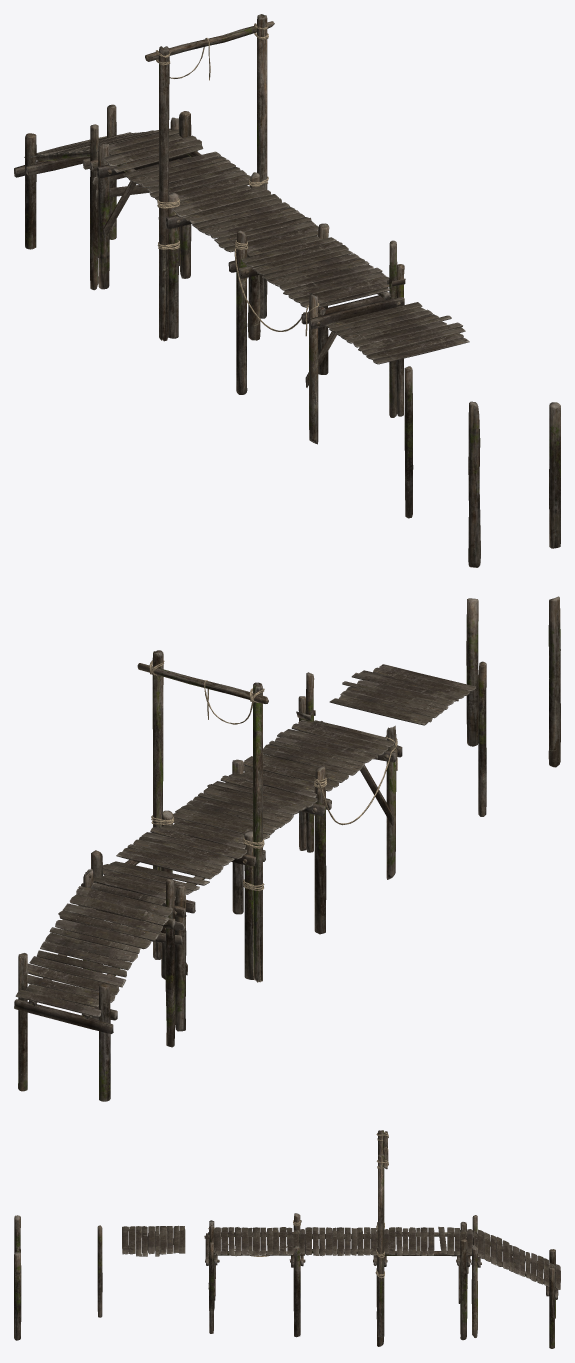
Rendered from modular_wooden_pier.glb.
3 views of the same model, one above another, from view 1: azimuth 30°, elevation 25°; view 2: azimuth 150°, elevation 25°; view 3: azimuth 270°, elevation 25° (orthographic). The views are drawn at different scales.
Visible parts, largest first — view 1: modular_wooden_pier_planks, modular_wooden_pier_section_01, modular_wooden_pier_poles; view 2: modular_wooden_pier_planks, modular_wooden_pier_section_01, modular_wooden_pier_poles; view 3: modular_wooden_pier_planks, modular_wooden_pier_section_01, modular_wooden_pier_poles.
Part boxes in pixels (box(x1,y1,x2,y2)): modular_wooden_pier_planks: box(14, 23, 469, 387); modular_wooden_pier_section_01: box(25, 14, 404, 444); modular_wooden_pier_poles: box(404, 366, 560, 567); modular_wooden_pier_planks: box(14, 660, 476, 1033); modular_wooden_pier_section_01: box(18, 650, 396, 1101); modular_wooden_pier_poles: box(466, 596, 560, 816); modular_wooden_pier_planks: box(122, 1132, 560, 1303); modular_wooden_pier_section_01: box(204, 1130, 558, 1348); modular_wooden_pier_poles: box(14, 1215, 102, 1340).
Bounding box in the file's own units: 3.1 × 7.51 × 19.03.
2 materials, 2 textured.
